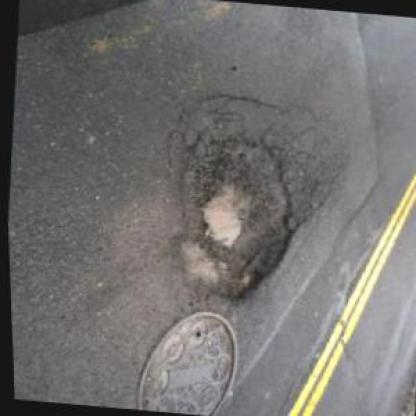pothole: (166, 129, 305, 305)
